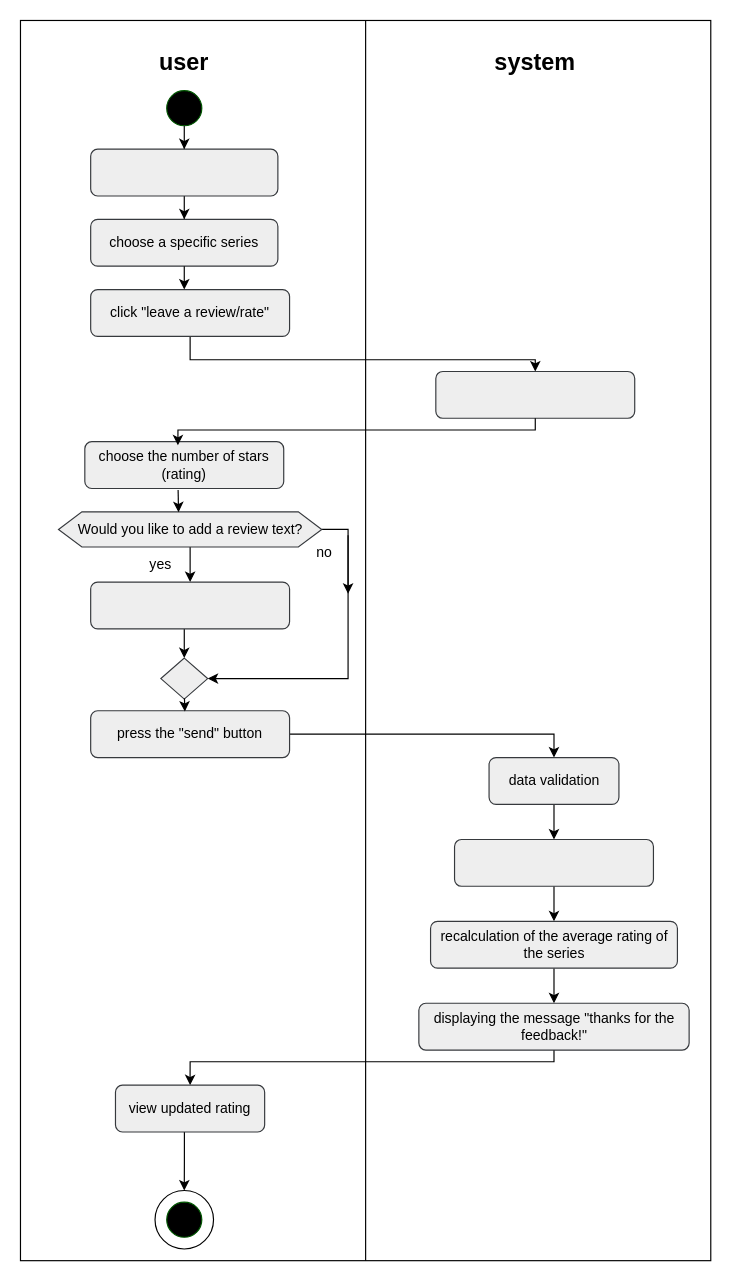
Image size: 731x1282. Some labels were removed from this diagram. Each missing label, with the centre of its shape:
display the evaluation form: (535,394)
enter the text of the comment: (190,605)
go to the list of episodes of the series: (184,172)
saving the rating and feedback in the database: (553,862)
